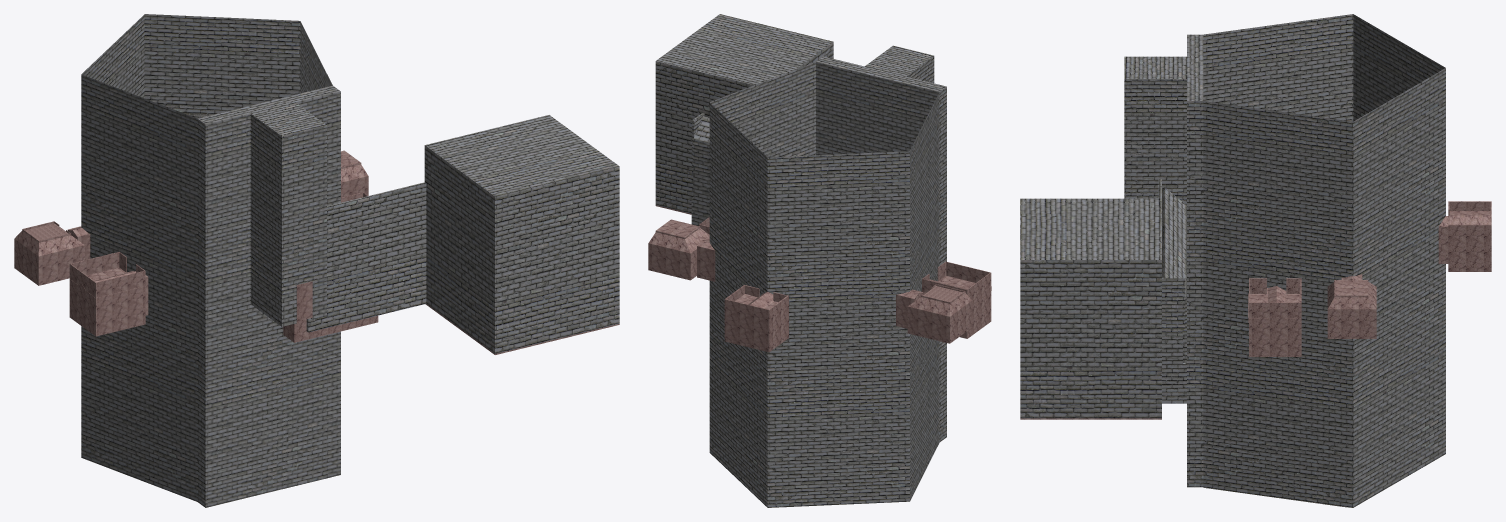
File: MapTwo2.fbx
3 renders of one model, left to right at view 1: azimuth 30°, elevation 25°; view 2: azimuth 150°, elevation 25°; view 3: azimuth 270°, elevation 25°, orthographic. The views are drawn at different scales.
Parts seen in each view (by area): view 1: Walls - Pentagon, Walls - boss, Walls - Platform, Floor; view 2: Walls - Pentagon, Walls - boss, Walls - Platform; view 3: Walls - Pentagon, Walls - boss, Walls - Platform.
Boxes of the visible parts, x1,y1,x2,y2 form: Walls - Pentagon: (81,14,340,507); Walls - boss: (306,115,619,353); Walls - Platform: (14,150,368,342); Floor: (320,304,619,354); Walls - Pentagon: (691,45,946,507); Walls - boss: (655,14,833,213); Walls - Platform: (648,217,991,352); Walls - Pentagon: (1124,14,1445,507); Walls - boss: (1020,179,1161,418); Walls - Platform: (1248,201,1491,356).
Bounding box in the file's own units: 1860 × 1592 × 1760.
Materials: 4 (4 with a texture image).
